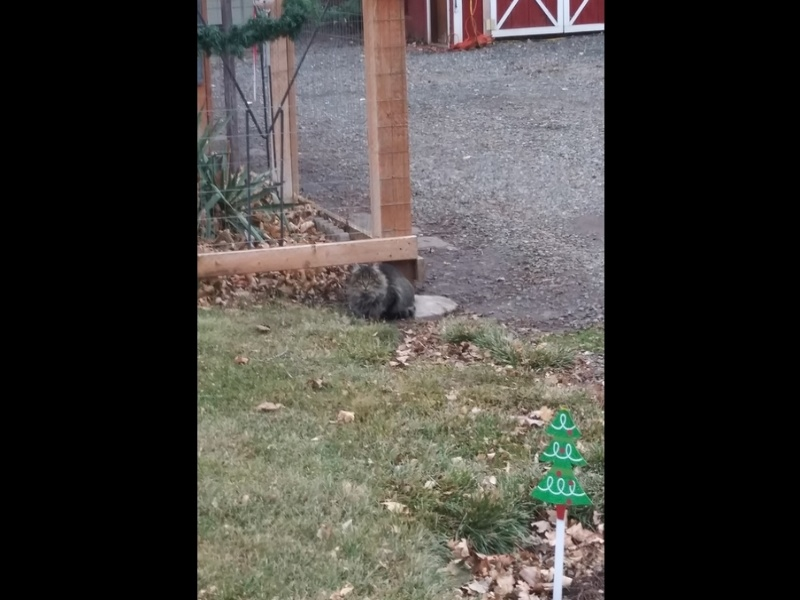cat: (338, 258, 423, 325)
